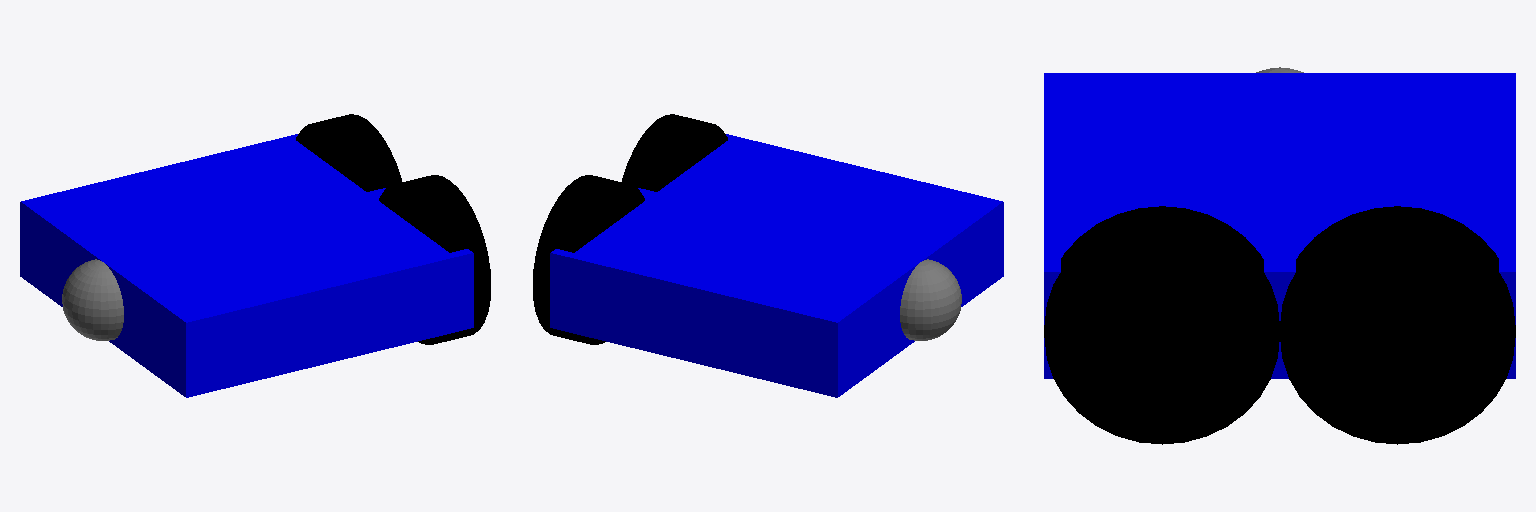
URDF robot description (simple_diff_drive_robot):
<?xml version="1.0"?>
<robot name="simple_diff_drive_robot">
  <!-- Base Link -->
  <link name="base_link">
    <visual>
      <geometry>
        <box size="0.4 0.4 0.1"/>
      </geometry>
      <material name="blue">
        <color rgba="0 0 1 1"/>
      </material>
    </visual>
    <collision>
      <geometry>
        <box size="0.4 0.4 0.1"/>
      </geometry>
    </collision>
    <inertial>
      <mass value="1.0"/>
      <origin xyz="0 0 0" rpy="0 0 0"/>
      <inertia ixx="0.1" ixy="0.0" ixz="0.0" iyy="0.1" iyz="0.0" izz="0.1"/>
    </inertial>
  </link>

  <!-- Left Wheel -->
  <link name="left_wheel">
    <visual>
      <geometry>
        <cylinder length="0.05" radius="0.1"/>
      </geometry>
      <material name="black">
        <color rgba="0 0 0 1"/>
      </material>
    </visual>
    <collision>
      <geometry>
        <cylinder length="0.05" radius="0.1"/>
      </geometry>
    </collision>
    <inertial>
      <mass value="0.1"/>
      <origin xyz="0 0 0" rpy="0 0 0"/>
      <inertia ixx="0.01" ixy="0.0" ixz="0.0" iyy="0.01" iyz="0.0" izz="0.01"/>
    </inertial>
  </link>

  <!-- Right Wheel -->
  <link name="right_wheel">
    <visual>
      <geometry>
        <cylinder length="0.05" radius="0.1"/>
      </geometry>
      <material name="black">
        <color rgba="0 0 0 1"/>
      </material>
    </visual>
    <collision>
      <geometry>
        <cylinder length="0.05" radius="0.1"/>
      </geometry>
    </collision>
    <inertial>
      <mass value="0.1"/>
      <origin xyz="0 0 0" rpy="0 0 0"/>
      <inertia ixx="0.01" ixy="0.0" ixz="0.0" iyy="0.01" iyz="0.0" izz="0.01"/>
    </inertial>
  </link>

  <!-- Caster Wheel -->
  <link name="caster_wheel">
    <visual>
      <geometry>
        <sphere radius="0.05"/>
      </geometry>
      <material name="grey">
        <color rgba="0.5 0.5 0.5 1"/>
      </material>
    </visual>
    <collision>
      <geometry>
        <sphere radius="0.05"/>
      </geometry>
    </collision>
    <inertial>
      <mass value="0.1"/>
      <origin xyz="0 0 0" rpy="0 0 0"/>
      <inertia ixx="0.01" ixy="0.0" ixz="0.0" iyy="0.01" iyz="0.0" izz="0.01"/>
    </inertial>
  </link>

  <!-- Left Wheel Joint -->
  <joint name="left_wheel_joint" type="continuous">
    <parent link="base_link"/>
    <child link="left_wheel"/>
    <origin xyz="0.2 0.1 0" rpy="0 1.5708 0"/>
    <axis xyz="0 1 0"/>
  </joint>

  <!-- Right Wheel Joint -->
  <joint name="right_wheel_joint" type="continuous">
    <parent link="base_link"/>
    <child link="right_wheel"/>
    <origin xyz="0.2 -0.1 0" rpy="0 1.5708 0"/>
    <axis xyz="0 1 0"/>
  </joint>

  <!-- Caster Wheel Joint -->
  <joint name="caster_wheel_joint" type="fixed">
    <parent link="base_link"/>
    <child link="caster_wheel"/>
    <origin xyz="-0.2 0 0" rpy="0 0 0"/>
  </joint>
</robot>

--- Facts derived from the render (not from the file) ---
Views: 3 orthographic renders of the robot side by side, from view 1: azimuth 30°, elevation 25°; view 2: azimuth 150°, elevation 25°; view 3: azimuth 270°, elevation 25°.
Model simple_diff_drive_robot with 4 links and 3 joints (2 continuous, 1 fixed), rooted at base_link, posed all joints at 0.
Visible links, largest first — view 1: base_link, right_wheel, left_wheel, caster_wheel; view 2: base_link, left_wheel, right_wheel, caster_wheel; view 3: base_link, left_wheel, right_wheel.
Boxes of the visible links, <box> form: base_link: <box>20,134,473,397</box>; right_wheel: <box>379,175,490,344</box>; left_wheel: <box>296,114,401,191</box>; caster_wheel: <box>62,259,123,340</box>; base_link: <box>550,134,1003,397</box>; left_wheel: <box>533,175,644,344</box>; right_wheel: <box>622,114,727,191</box>; caster_wheel: <box>900,259,961,340</box>; base_link: <box>1044,73,1515,378</box>; left_wheel: <box>1280,206,1515,444</box>; right_wheel: <box>1044,206,1279,444</box>.
Bounding box of the posed robot: 0.475 × 0.4 × 0.2 m (x, y, z).
Geometry: primitives only (box / cylinder / sphere), no mesh files.
